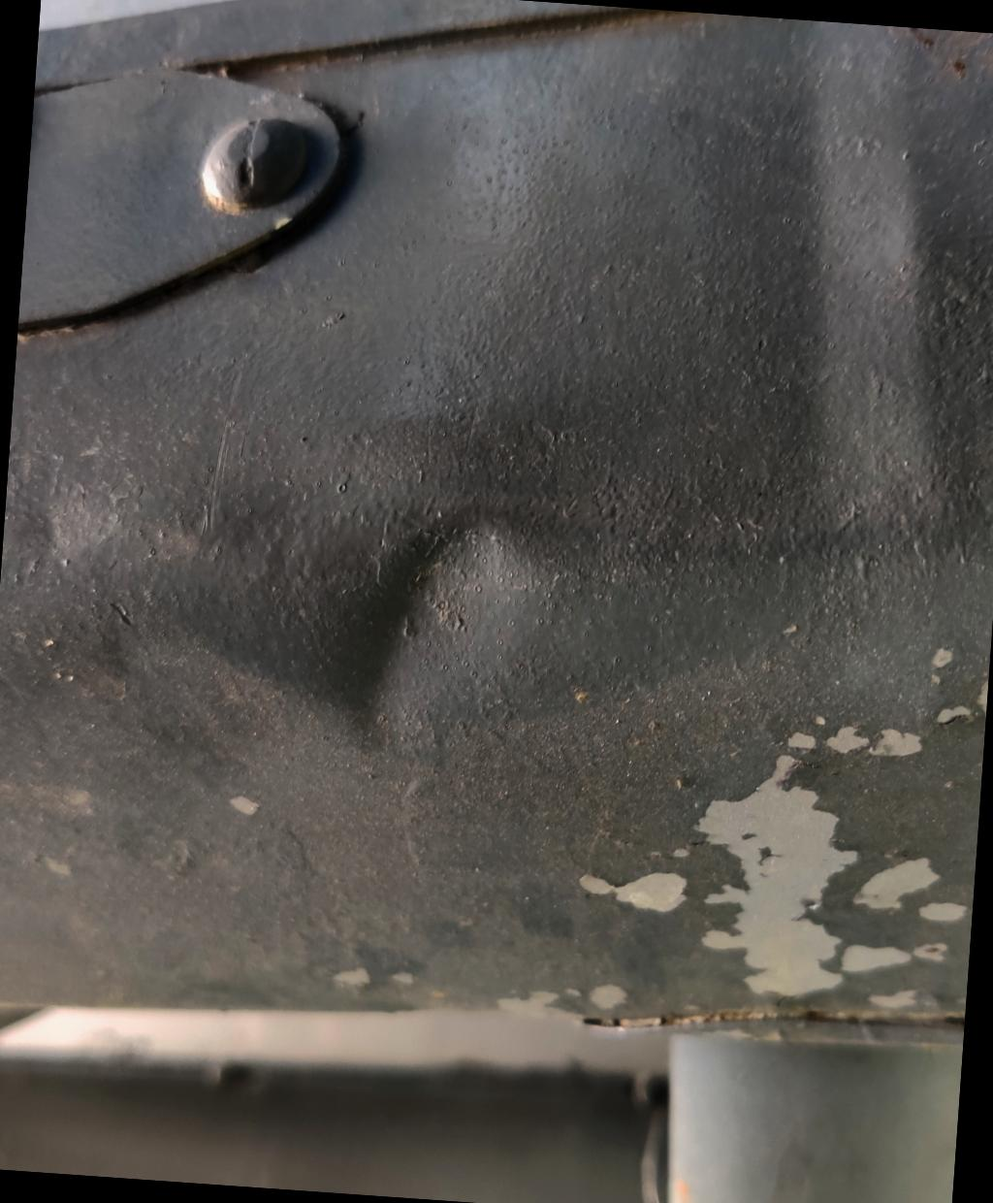corrosion: (555, 697, 986, 1045), (922, 613, 993, 750)
dent: (306, 446, 563, 785)
